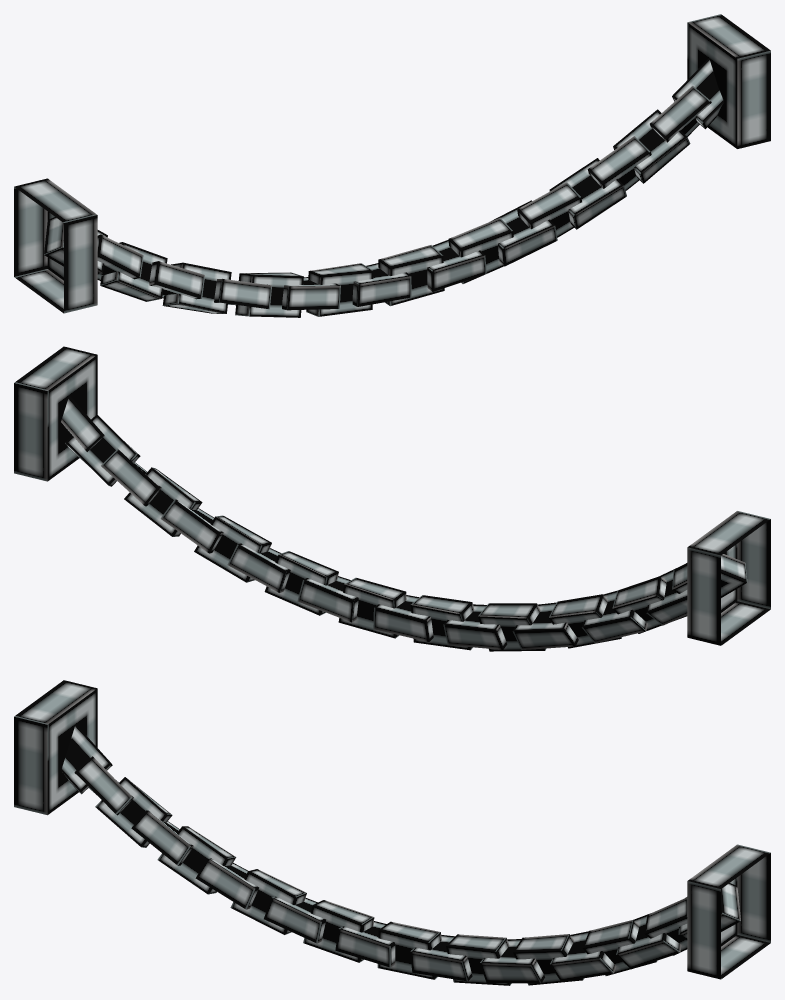
File: deco_winter_long.FBX
3 renders of one model, top to bottom at view 1: azimuth 30°, elevation 25°; view 2: azimuth 150°, elevation 25°; view 3: azimuth 330°, elevation 25°, orthographic.
Visible parts, largest first — view 1: deco_winter_long; view 2: deco_winter_long; view 3: deco_winter_long.
Boxes of the visible parts, left/top/right/bottom form: deco_winter_long: left=14, top=14, right=770, bottom=317; deco_winter_long: left=14, top=346, right=770, bottom=651; deco_winter_long: left=14, top=680, right=770, bottom=985.
Bounding box in the file's own units: 3.5 × 0.8586 × 0.4281.
Materials: 1 (1 with a texture image).
